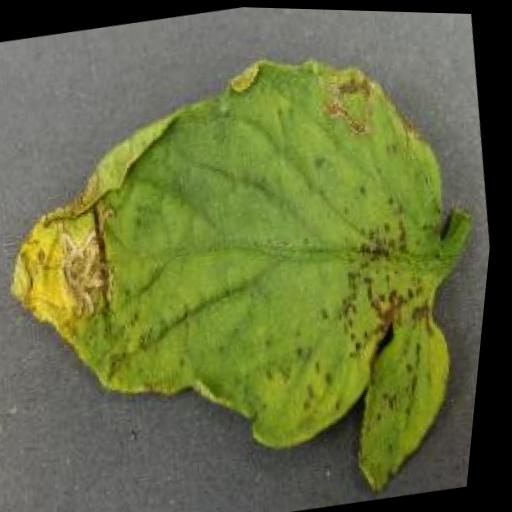Bacterial Spot: (0, 8, 511, 512)
